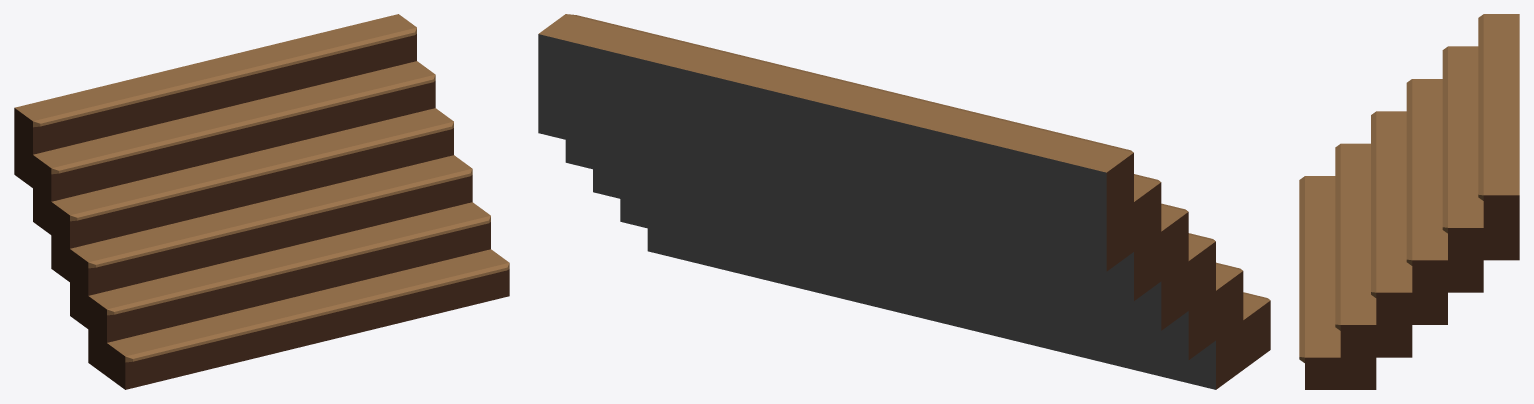
Rendered from StairsV2W.fbx.
3 renders of one model, left to right at view 1: azimuth 30°, elevation 25°; view 2: azimuth 150°, elevation 25°; view 3: azimuth 270°, elevation 25°, orthographic. The views are drawn at different scales.
Parts seen in each view (by area): view 1: StairsV2W; view 2: StairsV2W; view 3: StairsV2W.
Boxes of the visible parts, x1,y1,x2,y2 form: StairsV2W: (14, 14, 509, 389); StairsV2W: (538, 14, 1270, 389); StairsV2W: (1299, 14, 1519, 389).
Bounding box in the file's own units: 200 × 100 × 103.
